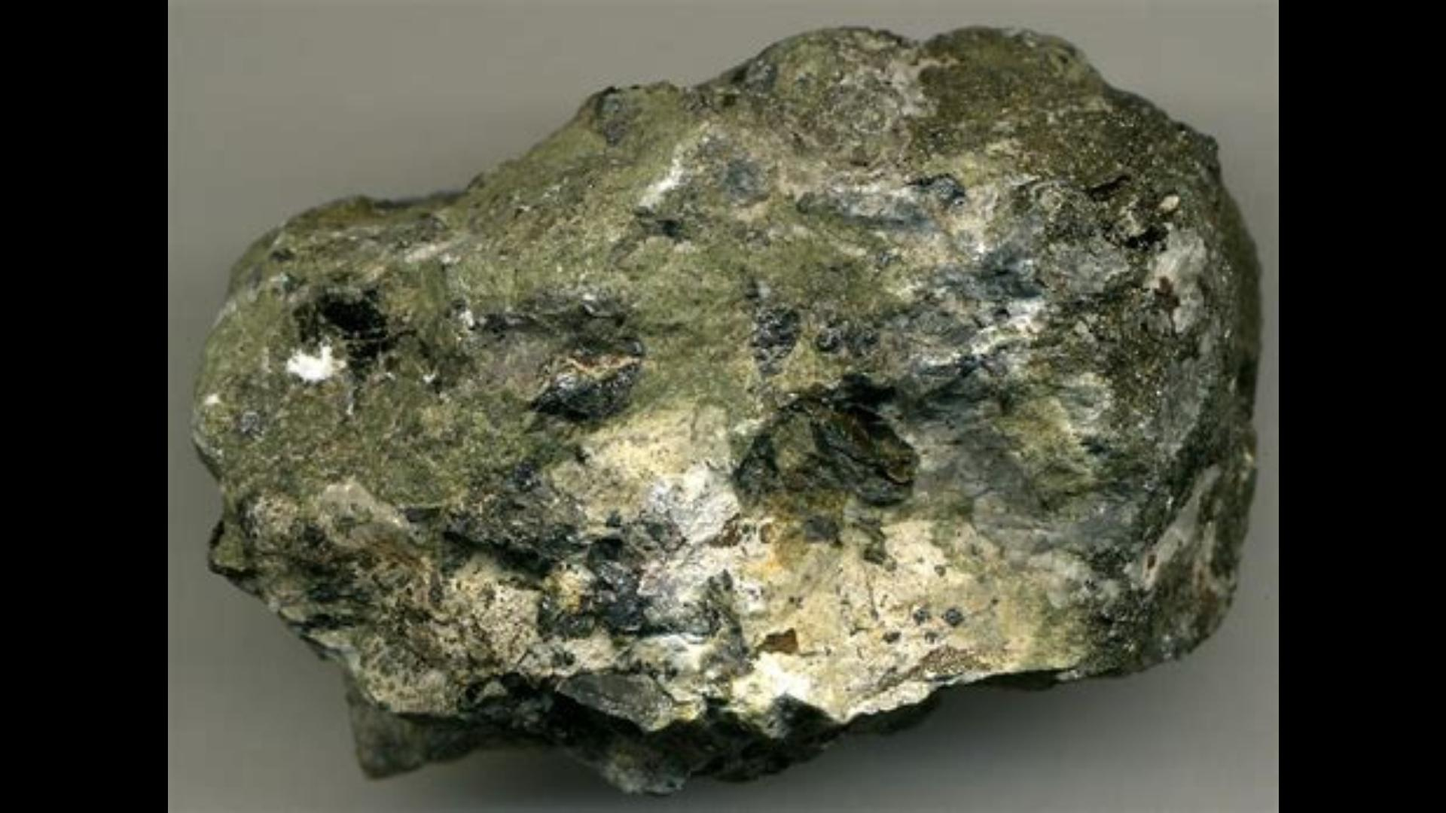rock: (207, 28, 1252, 790)
